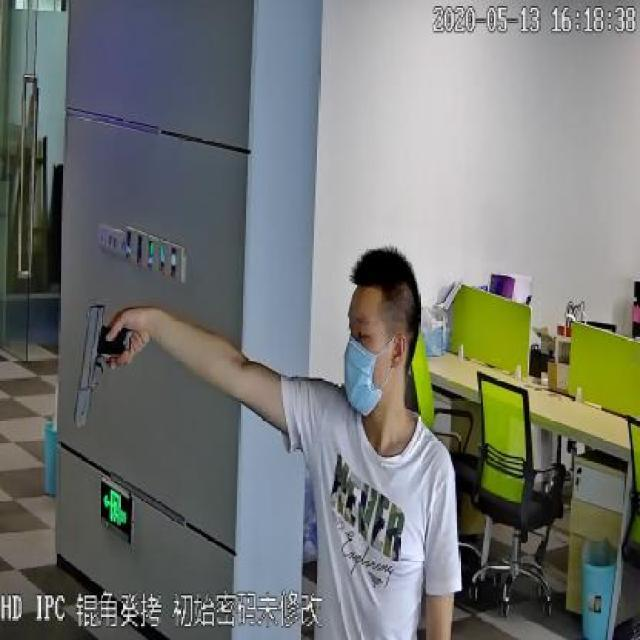gun: (68, 288, 134, 443)
